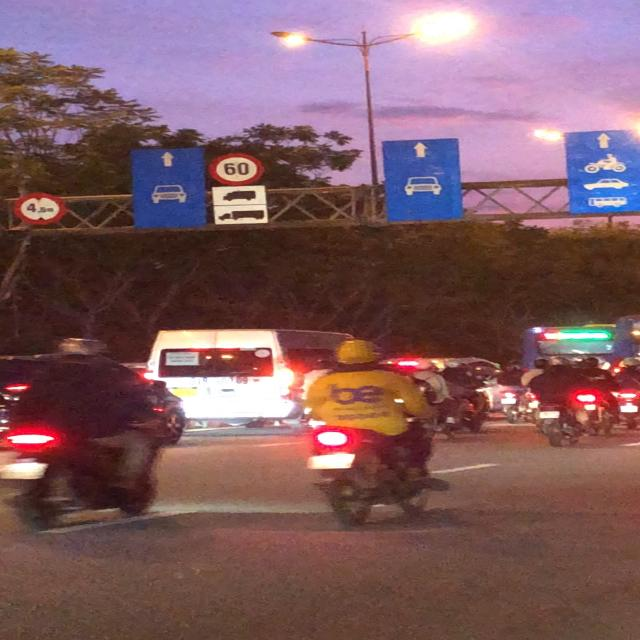Bien bao han che chieu cao: (11, 192, 72, 229)
Bien bao toc do toi da cho phep: (203, 150, 256, 182)
